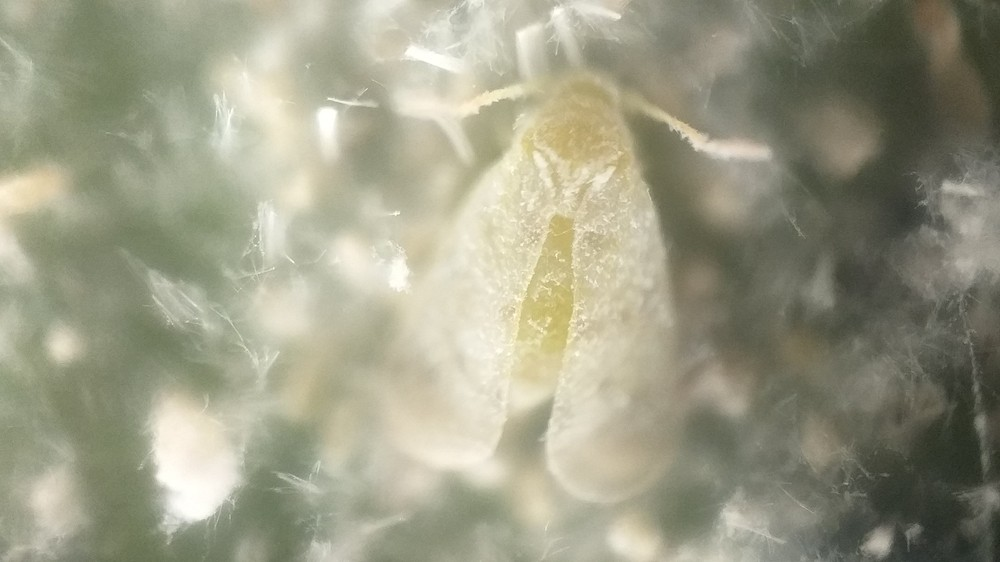Mosca Blanca: (349, 58, 795, 527)
